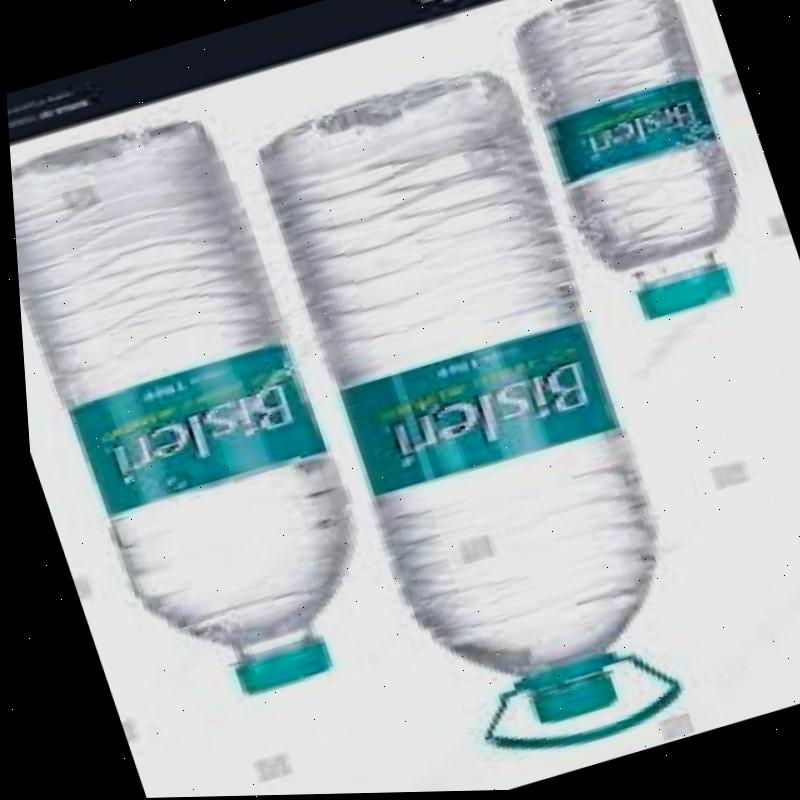botella: (234, 56, 711, 757), (6, 100, 397, 725), (501, 0, 766, 336)
